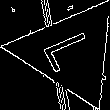L_NE: (37, 27, 102, 77)
